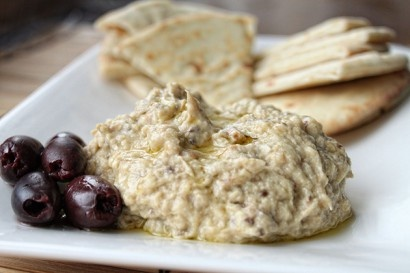background: (0, 0, 263, 104)
